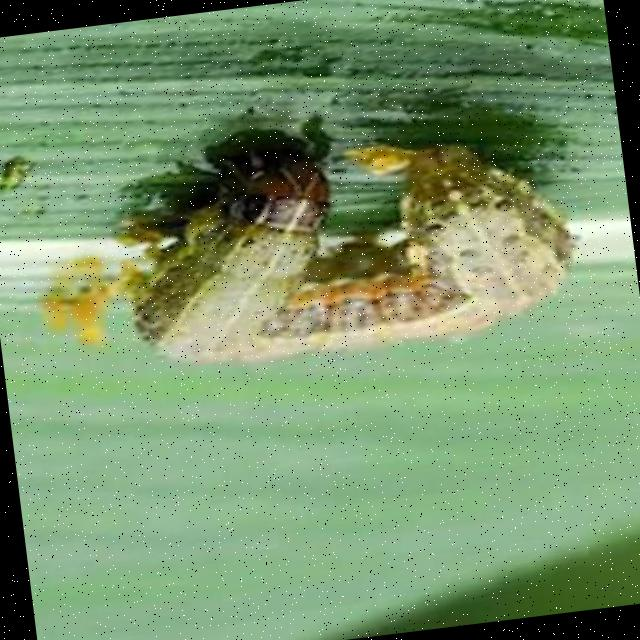worm: (1, 79, 591, 396)
